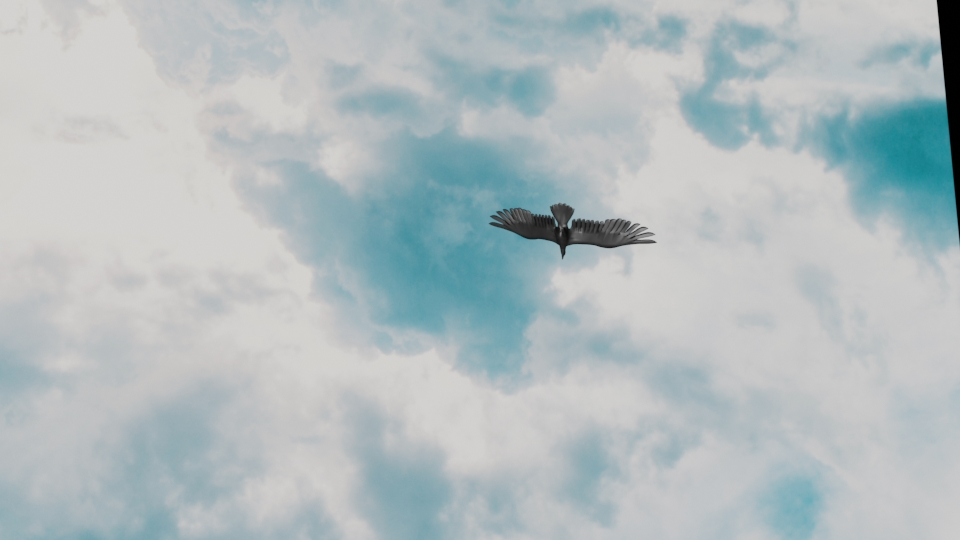bird: (489, 201, 653, 261)
